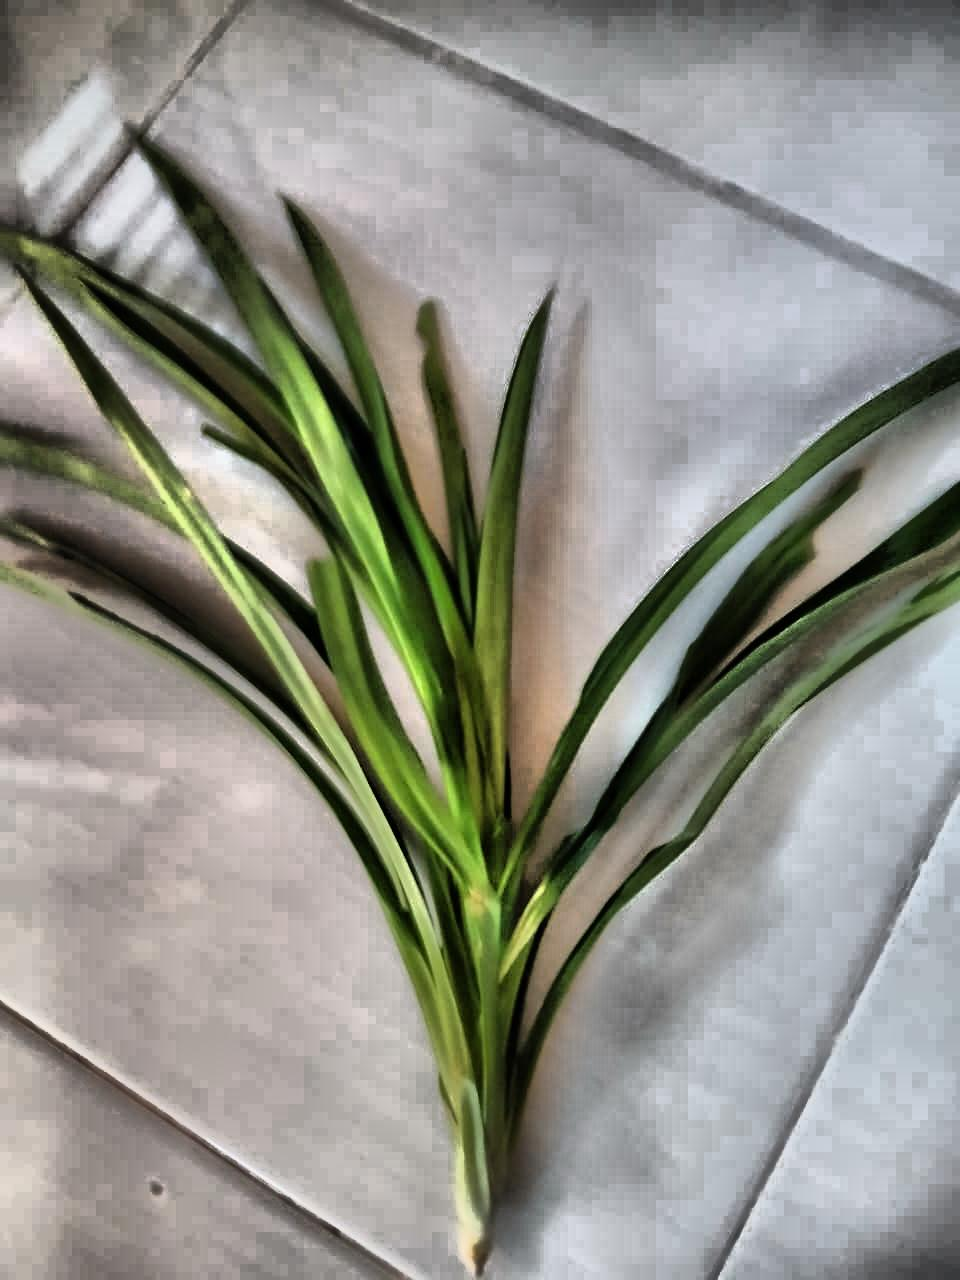daun pandan: (0, 134, 959, 1272)
